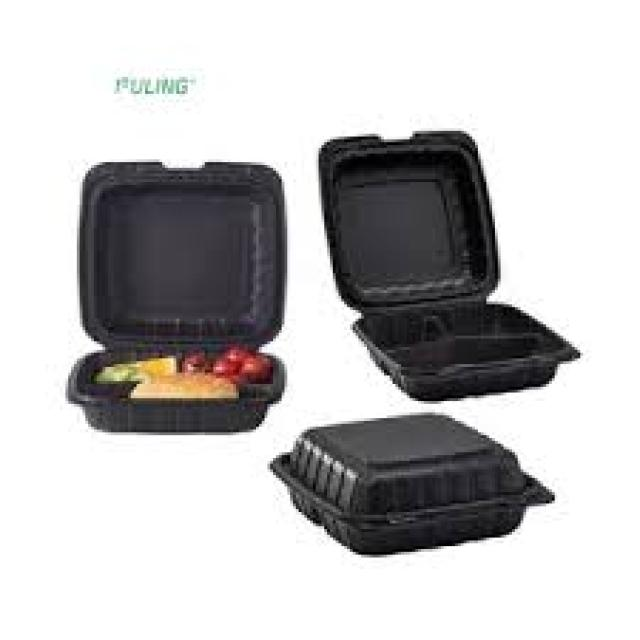disposable: (297, 410, 527, 556), (350, 292, 592, 422), (45, 340, 293, 444)
